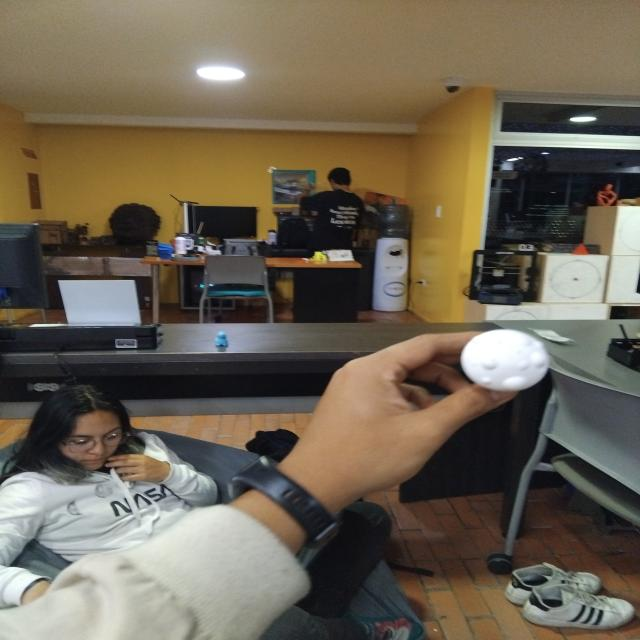Hongo: (447, 324, 562, 396)
